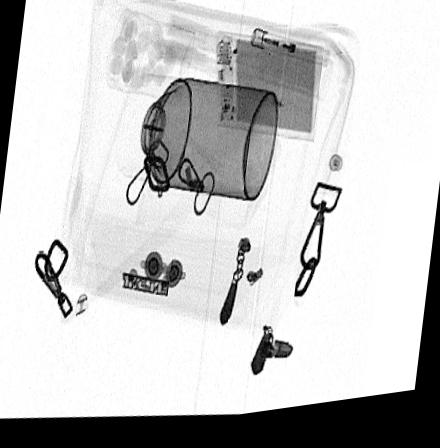Lighter: (250, 33, 330, 75)
Powerbank: (214, 34, 323, 147)
Sprayer: (117, 76, 280, 204)
